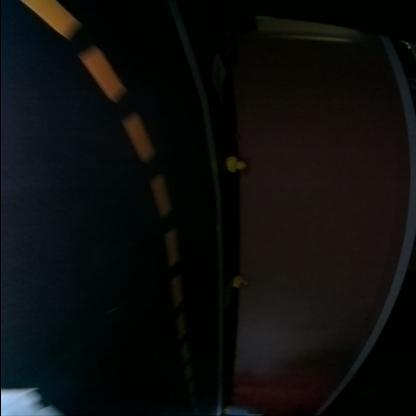Duckie: (228, 156, 246, 172), (232, 276, 247, 288)
